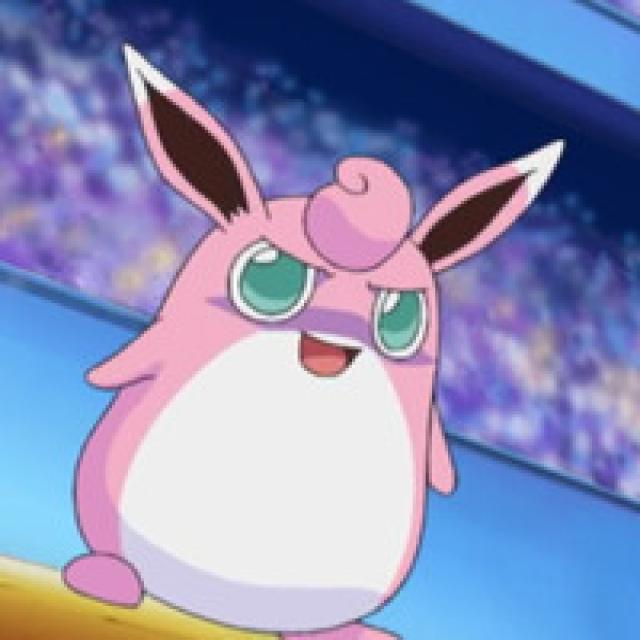Wigglytuff: (59, 158, 462, 627)
